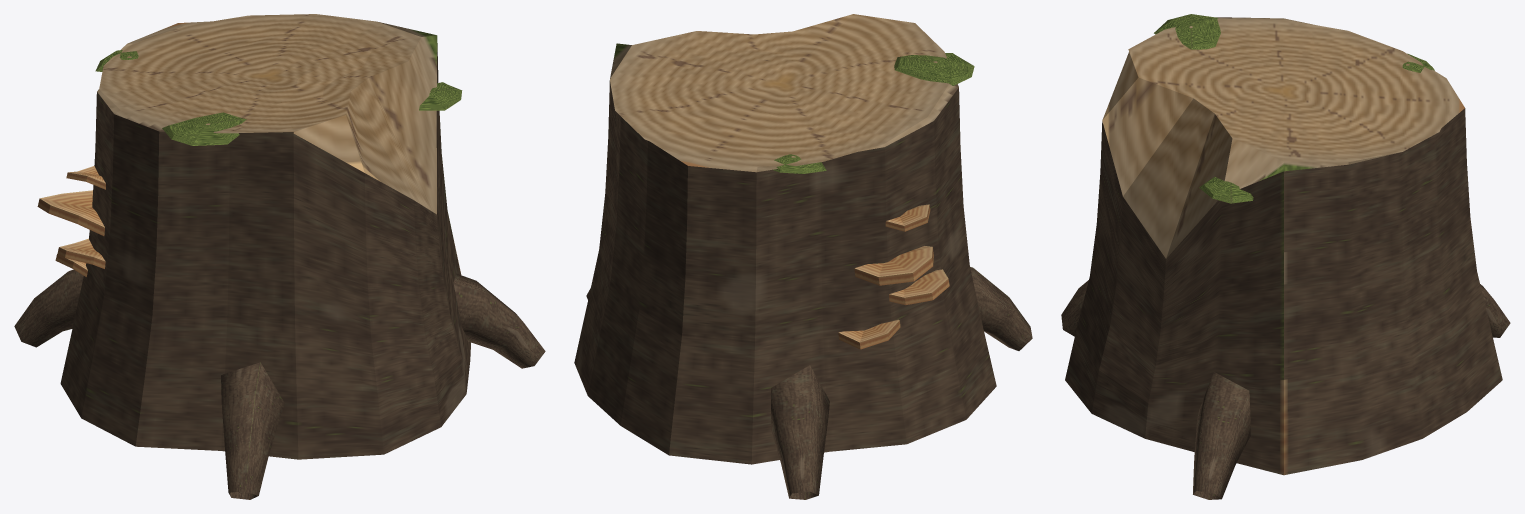
File: prop_forest_stump_a.glb
3 views of the same model, side by side, from view 1: azimuth 30°, elevation 25°; view 2: azimuth 150°, elevation 25°; view 3: azimuth 270°, elevation 25° (orthographic). The views are drawn at different scales.
Visible parts, largest first — view 1: prop_forest_stump_a; view 2: prop_forest_stump_a; view 3: prop_forest_stump_a.
Boxes of the visible parts, left/top/right/bottom form: prop_forest_stump_a: left=14, top=14, right=545, bottom=499; prop_forest_stump_a: left=574, top=14, right=1032, bottom=499; prop_forest_stump_a: left=1061, top=14, right=1510, bottom=499.
Bounding box in the file's own units: 0.8439 × 0.6349 × 0.8005.
1 material, 1 textured.
